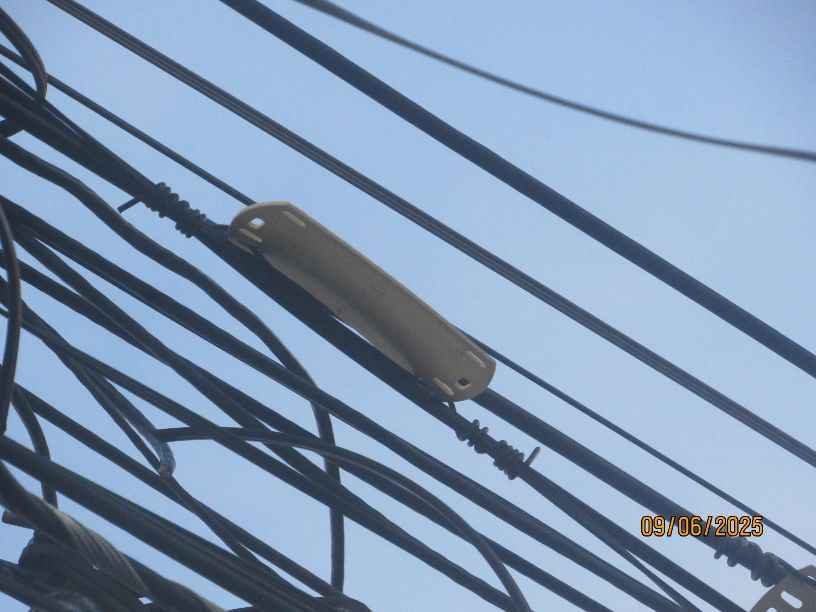fibra_optica: (176, 146, 519, 455)
